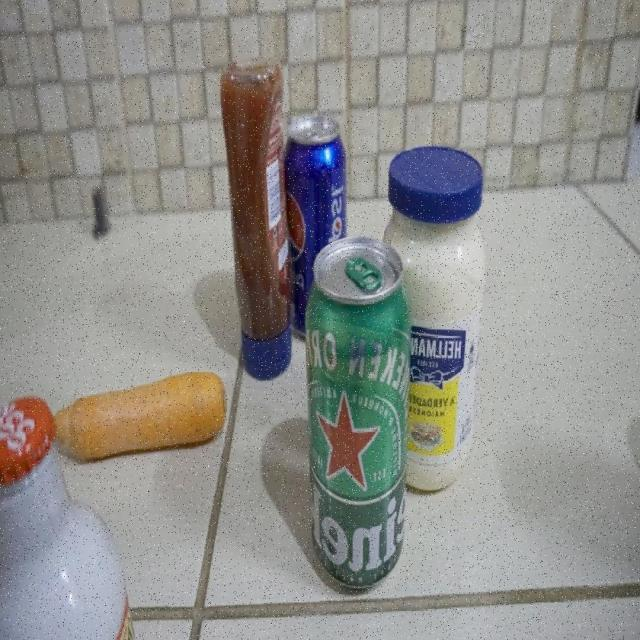BeerCan: (308, 233, 410, 588)
Carrot: (52, 372, 227, 463)
CoconutMilk: (0, 394, 137, 640)
Ketchup: (219, 51, 292, 384)
Mayonnaise: (381, 146, 488, 494)
SodaCan: (285, 120, 347, 332)
